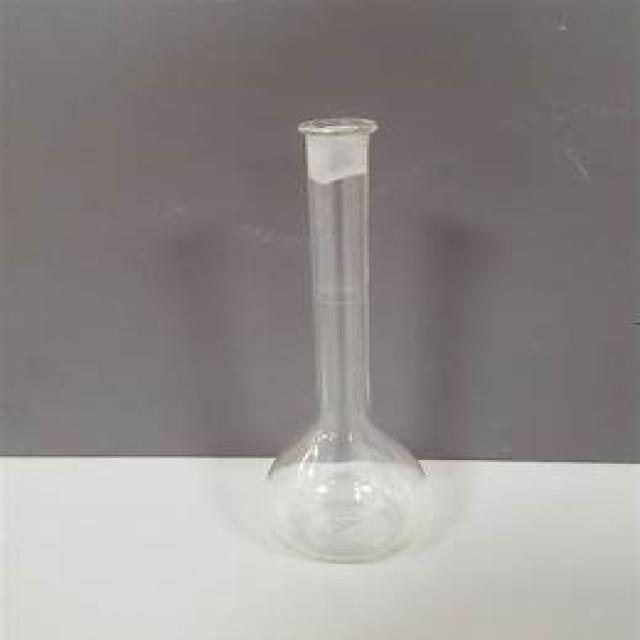Volumetric flask: (257, 82, 436, 561)
